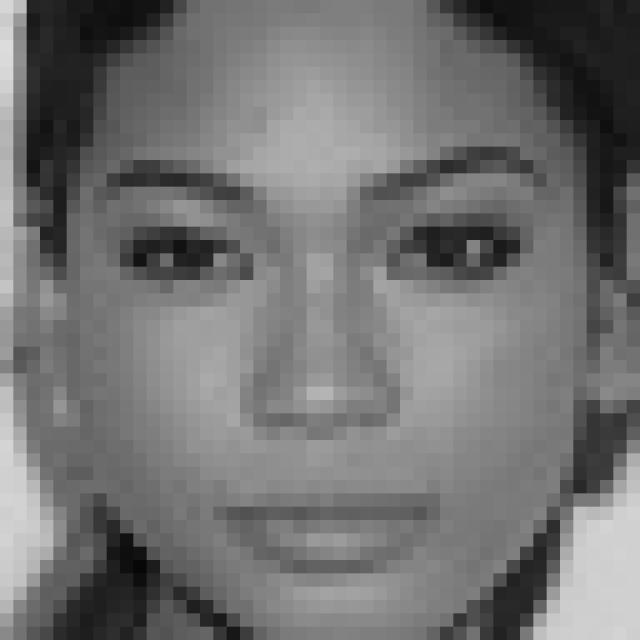neutral: (98, 132, 565, 594)
